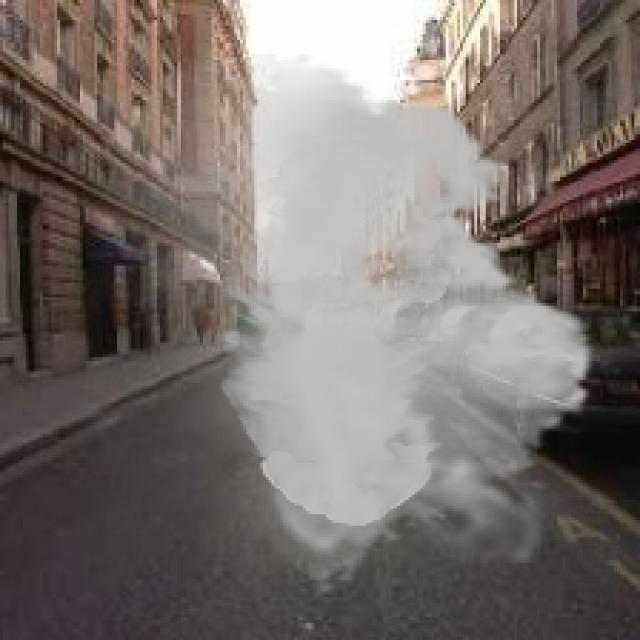smoke: (66, 54, 614, 597)
